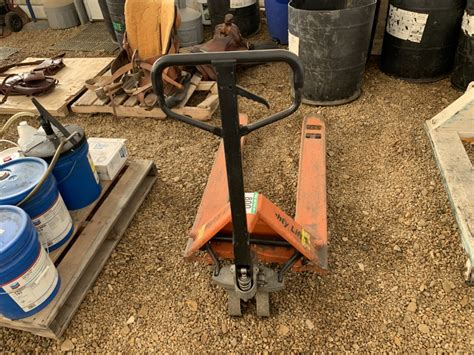Pallet Jack: (152, 50, 330, 319)
